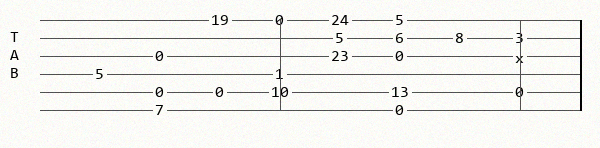0: (155, 49, 168, 63), (155, 85, 168, 99), (215, 85, 228, 99), (275, 13, 288, 27), (395, 103, 408, 117), (395, 49, 408, 63), (515, 85, 528, 99)
1: (275, 67, 288, 81)
10: (271, 85, 293, 99)
13: (391, 85, 413, 99)
19: (211, 13, 233, 27)
23: (331, 49, 353, 63)
24: (331, 13, 353, 27)
3: (515, 31, 528, 45)
5: (95, 67, 108, 81), (335, 31, 348, 45), (395, 13, 408, 27)
6: (395, 31, 408, 45)
7: (155, 103, 168, 117)
8: (455, 31, 468, 45)
x: (515, 51, 528, 62)
